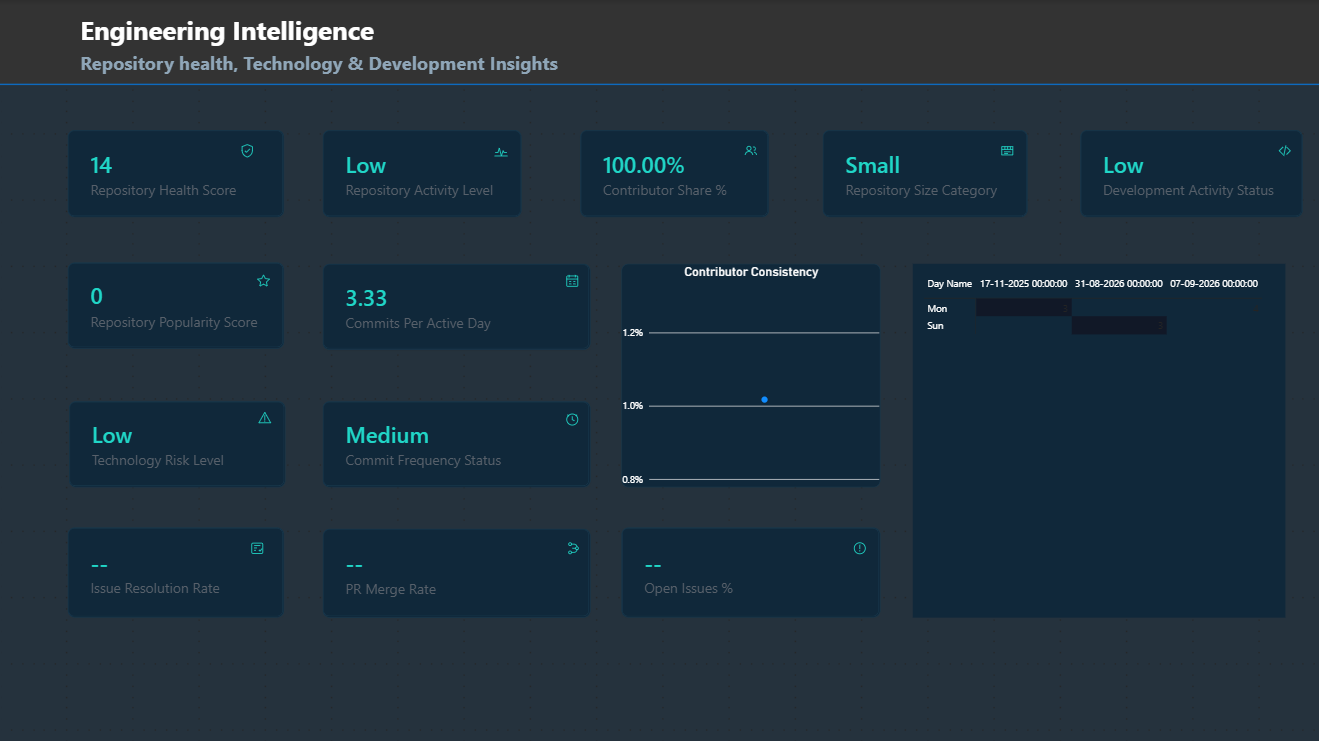

The dashboard page shown, as its layout file describes it:
{"tool":"powerbi","page":{"name":"Engineering Intelligence","canvas":[1920,1080],"ordinal":2},"visuals":[{"type":"cardVisual","fields":{"Data":["DimDate.Repository Health Score"]},"box":[99.6,188.4,313.4,126.8],"z":0},{"type":"cardVisual","fields":{"Data":["DimDate.Repository Activity Level"]},"box":[469.1,188.4,288,126.8],"z":1000},{"type":"cardVisual","fields":{"Data":["DimDate.Contributor Share %"]},"box":[842.3,188.4,273.5,126.8],"z":2000},{"type":"cardVisual","fields":{"Data":["DimDate.Commits Per Active Day"]},"box":[469.1,382.2,387.6,125],"z":3000},{"type":"lineChart","fields":{"Y":["DimDate.Contributor Consistency"]},"box":[902,382.2,374.9,324.2],"z":4000},{"type":"cardVisual","fields":{"Data":["DimDate.Repository Popularity Score"]},"box":[99.6,380.4,313.4,125],"z":5000},{"type":"cardVisual","fields":{"Data":["DimDate.Repository Size Category"]},"box":[1193.7,188.4,297.1,126.8],"z":6000},{"type":"cardVisual","fields":{"Data":["DimDate.Technology Risk Level"]},"box":[101.4,581.4,313.4,125],"z":7000},{"type":"cardVisual","fields":{"Data":["DimDate.Development Activity Status"]},"box":[1566.8,188.4,322.4,126.8],"z":8000},{"type":"cardVisual","fields":{"Data":["DimDate.Issue Resolution Rate"]},"box":[99.6,764.4,313.4,130.4],"z":9000},{"type":"cardVisual","fields":{"Data":["DimDate.PR Merge Rate"]},"box":[469.1,766.2,387.6,128.6],"z":10000},{"type":"cardVisual","fields":{"Data":["DimDate.Open Issues %"]},"box":[902,764.4,374.9,130.4],"z":11000},{"type":"shape","box":[0,0,1920,123.2],"z":11001},{"type":"textbox","box":[117.7,18.1,566.9,54.3],"z":11002},{"type":"textbox","box":[117.7,72.5,898.4,50.7],"z":11003},{"type":"cardVisual","fields":{"Data":["DimDate.Commit Frequency Status"]},"box":[469.1,581.4,387.6,125],"z":11004},{"type":"pivotTable","fields":{"Columns":["DimDate.Week Start"],"Rows":["DimDate.Day Name"],"Values":["FactCommits.Total Commits"]},"box":[1324.1,382.2,539.8,512.6],"z":11005},{"type":"image","box":[347.8,206.5,24,24],"z":11006},{"type":"image","box":[715.5,206.5,24,24],"z":11007},{"type":"image","box":[1077.7,206.5,24,24],"z":11008},{"type":"image","box":[1449.1,206.5,24,24],"z":11009},{"type":"image","box":[1851.2,206.5,24,24],"z":11010},{"type":"image","box":[371.3,394.9,24,24],"z":11011},{"type":"image","box":[818.7,394.9,24,24],"z":11012},{"type":"image","box":[818.7,595.9,24,24],"z":11013},{"type":"image","box":[373.1,594.1,24,24],"z":11014},{"type":"image","box":[362.3,782.5,24,24],"z":11015},{"type":"image","box":[820.5,782.5,24,24],"z":11016},{"type":"image","box":[1235.3,782.5,24,24],"z":11017},{"type":"shape","box":[0,86.9,1920,70.6],"z":11018}]}

Visuals, with their boxes in screenshot pixels (x1, y1, x2, y2), scaled from the page's 1920x1080 canvas onto the 1319x741 screenshot:
cardVisual - DimDate.Repository Health Score: pyautogui.locateOnScreen(68, 129, 284, 216)
cardVisual - DimDate.Repository Activity Level: pyautogui.locateOnScreen(322, 129, 520, 216)
cardVisual - DimDate.Contributor Share %: pyautogui.locateOnScreen(579, 129, 767, 216)
cardVisual - DimDate.Commits Per Active Day: pyautogui.locateOnScreen(322, 262, 589, 348)
lineChart - DimDate.Contributor Consistency: pyautogui.locateOnScreen(620, 262, 877, 485)
cardVisual - DimDate.Repository Popularity Score: pyautogui.locateOnScreen(68, 261, 284, 347)
cardVisual - DimDate.Repository Size Category: pyautogui.locateOnScreen(820, 129, 1024, 216)
cardVisual - DimDate.Technology Risk Level: pyautogui.locateOnScreen(70, 399, 285, 485)
cardVisual - DimDate.Development Activity Status: pyautogui.locateOnScreen(1076, 129, 1298, 216)
cardVisual - DimDate.Issue Resolution Rate: pyautogui.locateOnScreen(68, 524, 284, 614)
cardVisual - DimDate.PR Merge Rate: pyautogui.locateOnScreen(322, 526, 589, 614)
cardVisual - DimDate.Open Issues %: pyautogui.locateOnScreen(620, 524, 877, 614)
shape: pyautogui.locateOnScreen(0, 0, 1318, 85)
textbox: pyautogui.locateOnScreen(81, 12, 470, 50)
textbox: pyautogui.locateOnScreen(81, 50, 698, 85)
cardVisual - DimDate.Commit Frequency Status: pyautogui.locateOnScreen(322, 399, 589, 485)
pivotTable - DimDate.Week Start x DimDate.Day Name: pyautogui.locateOnScreen(910, 262, 1280, 614)
image: pyautogui.locateOnScreen(239, 142, 255, 158)
image: pyautogui.locateOnScreen(492, 142, 508, 158)
image: pyautogui.locateOnScreen(740, 142, 757, 158)
image: pyautogui.locateOnScreen(996, 142, 1012, 158)
image: pyautogui.locateOnScreen(1272, 142, 1288, 158)
image: pyautogui.locateOnScreen(255, 271, 272, 287)
image: pyautogui.locateOnScreen(562, 271, 579, 287)
image: pyautogui.locateOnScreen(562, 409, 579, 425)
image: pyautogui.locateOnScreen(256, 408, 273, 424)
image: pyautogui.locateOnScreen(249, 537, 265, 553)
image: pyautogui.locateOnScreen(564, 537, 580, 553)
image: pyautogui.locateOnScreen(849, 537, 865, 553)
shape: pyautogui.locateOnScreen(0, 60, 1318, 108)
